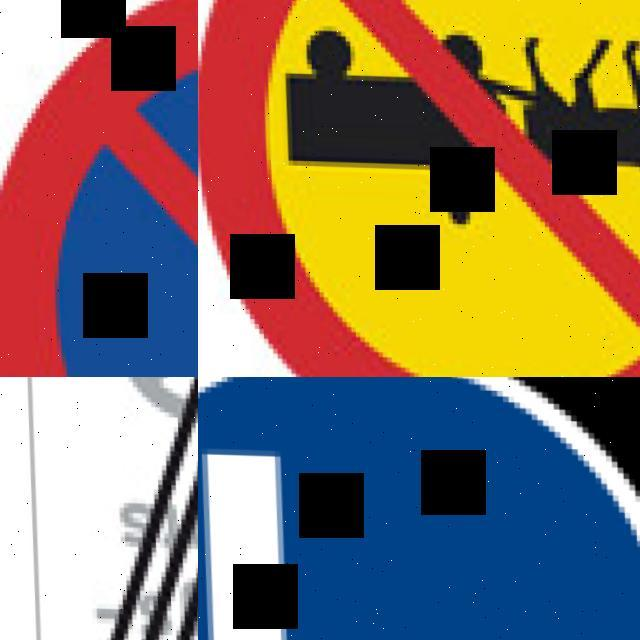115: (9, 377, 198, 640)
29: (0, 0, 198, 377)
41: (198, 0, 640, 377)
Turn left ahead: (198, 377, 640, 640)
